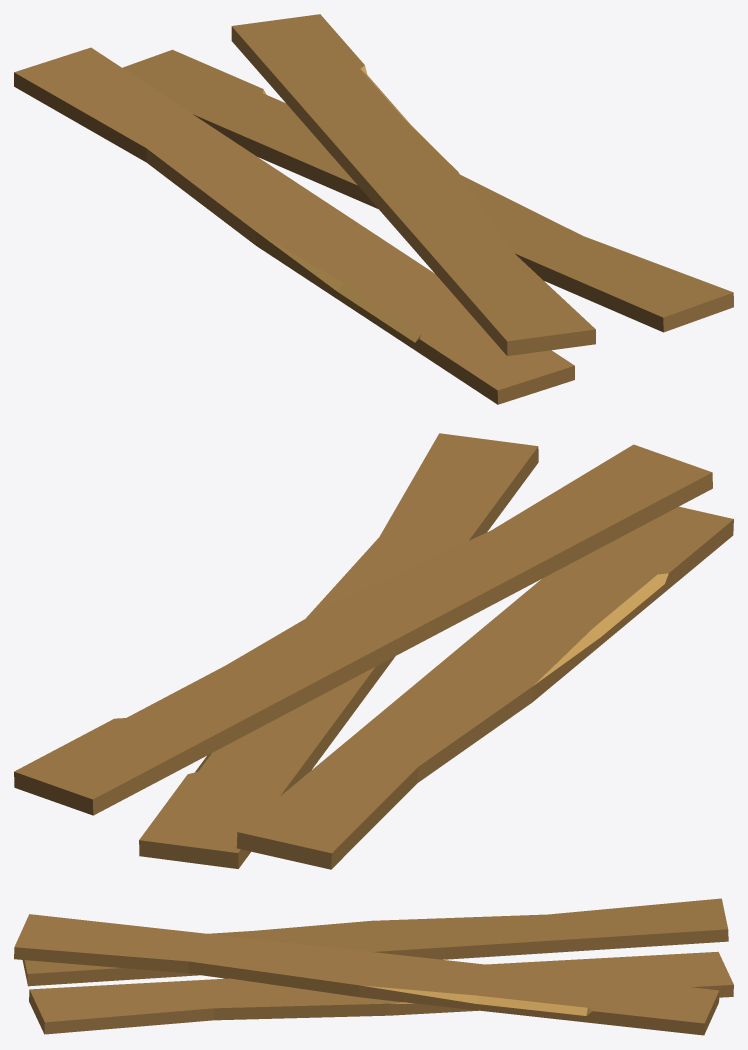
Rendered from WoodPlanks.glb.
3 renders of one model, top to bottom at view 1: azimuth 30°, elevation 25°; view 2: azimuth 150°, elevation 25°; view 3: azimuth 270°, elevation 25°, orthographic. The views are drawn at different scales.
Parts seen in each view (by area): view 1: WoodPlanks; view 2: WoodPlanks; view 3: WoodPlanks.
Boxes of the visible parts, x1,y1,x2,y2 form: WoodPlanks: (14,14,733,404); WoodPlanks: (14,433,733,869); WoodPlanks: (14,898,733,1035).
Bounding box in the file's own units: 0.7164 × 0.1244 × 1.73.
